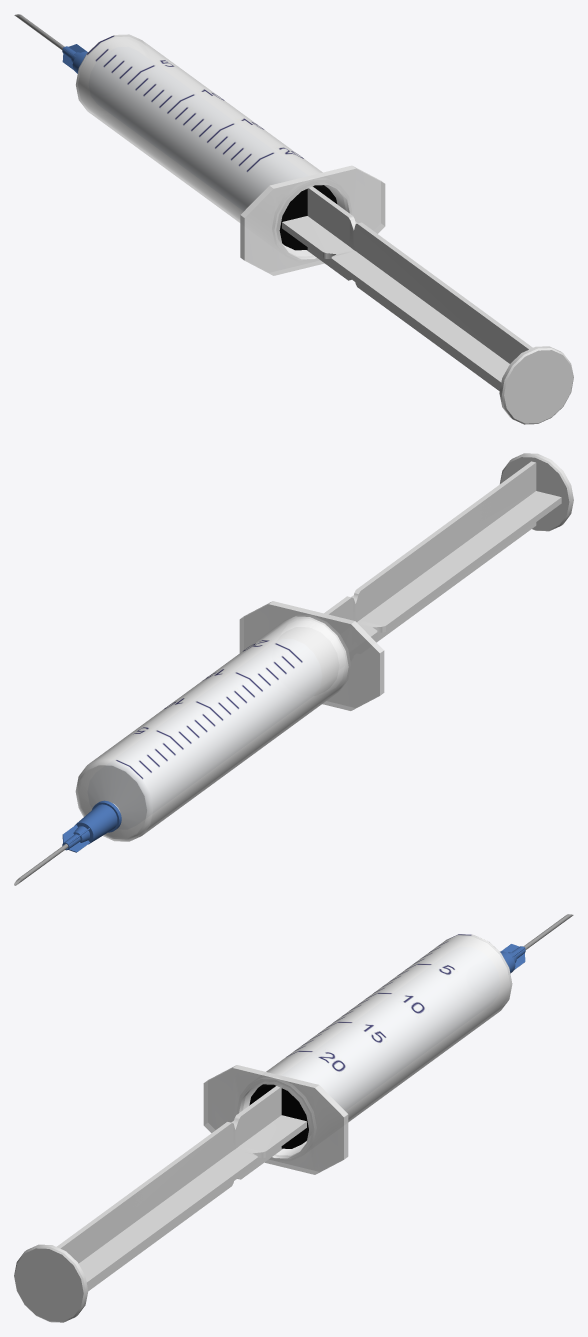
File: kimtiem20ml_noanim.fbx
The picture shows the model from 3 angles, top to bottom: view 1: azimuth 30°, elevation 25°; view 2: azimuth 150°, elevation 25°; view 3: azimuth 330°, elevation 25°; orthographic projection.
Visible parts, largest first — view 1: xilanh, ongtiem, daumui; view 2: xilanh, ongtiem, daumui; view 3: xilanh, ongtiem, daumui.
Part boxes in pixels (x1,y1,x2,y2): xilanh: [75, 34, 385, 275]; ongtiem: [279, 185, 573, 424]; daumui: [14, 14, 87, 73]; xilanh: [75, 601, 384, 841]; ongtiem: [324, 453, 573, 642]; daumui: [14, 800, 121, 885]; xilanh: [203, 934, 512, 1174]; ongtiem: [14, 1084, 308, 1322]; daumui: [500, 914, 573, 973].
Size of the model in its own units: 1.45 by 0.8584 by 9.35.
7 materials, 1 textured.
